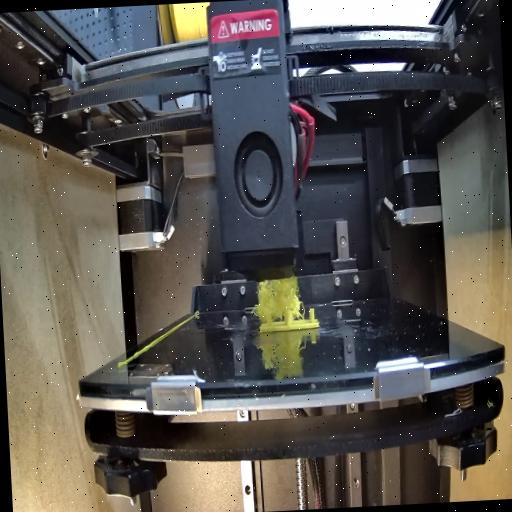spaghetti: (248, 270, 306, 323)
